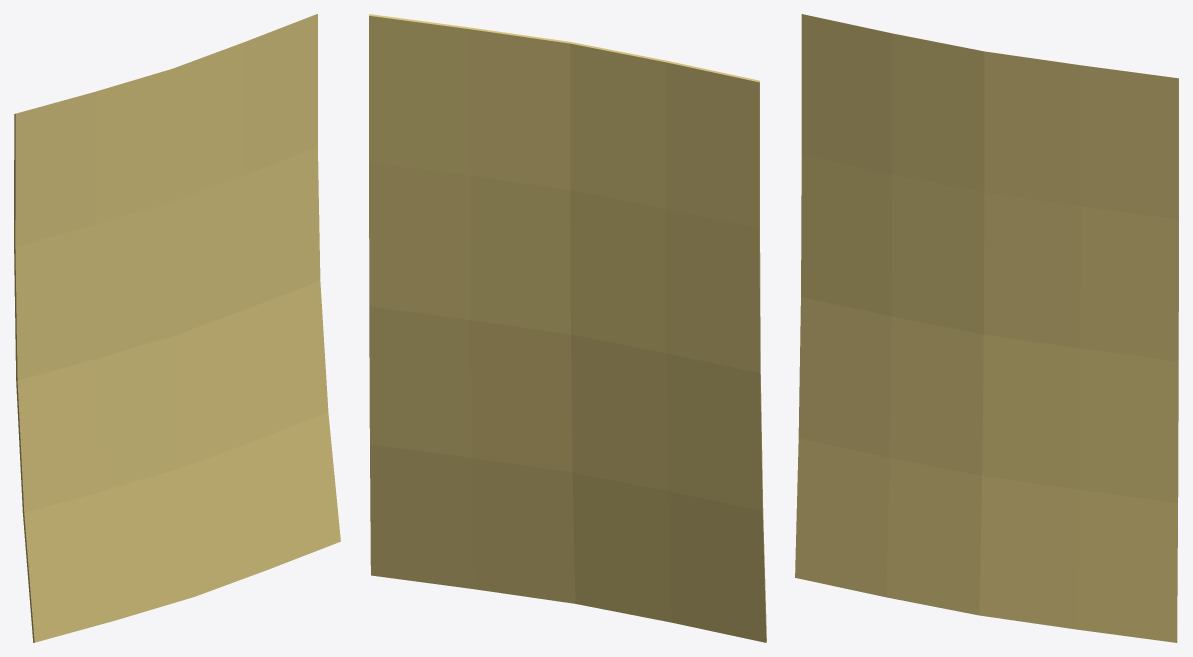
The model's file is lap3-3x.fbx.
3 views of the same model, side by side, from view 1: azimuth 30°, elevation 25°; view 2: azimuth 150°, elevation 25°; view 3: azimuth 330°, elevation 25° (orthographic). The views are drawn at different scales.
Visible parts, largest first — view 1: Lap.002; view 2: Lap.002; view 3: Lap.002.
Boxes of the visible parts, x1,y1,x2,y2 form: Lap.002: [14, 14, 340, 642]; Lap.002: [369, 14, 766, 642]; Lap.002: [795, 14, 1178, 642].
Bounding box in the file's own units: 27.33 × 40.06 × 5.62.
